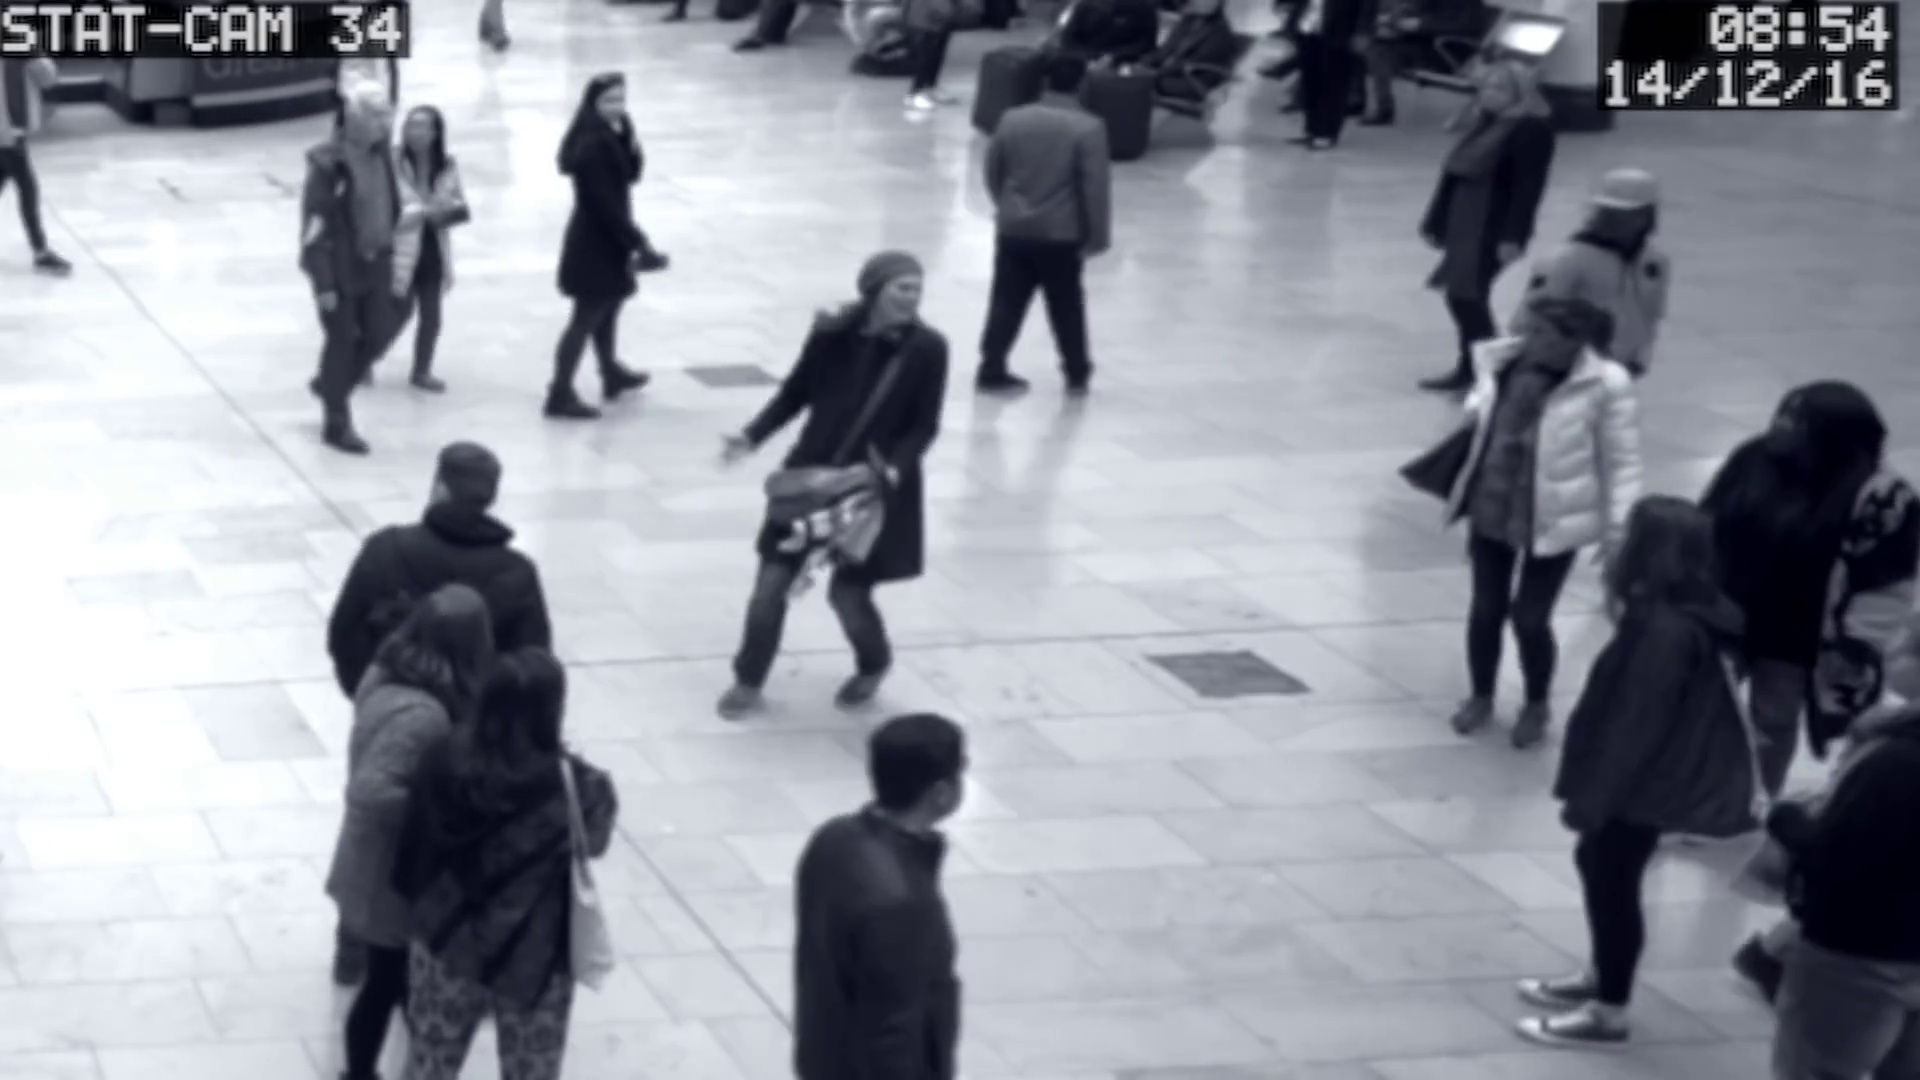face: (877, 273, 921, 320), (588, 80, 631, 122), (397, 105, 434, 154)
